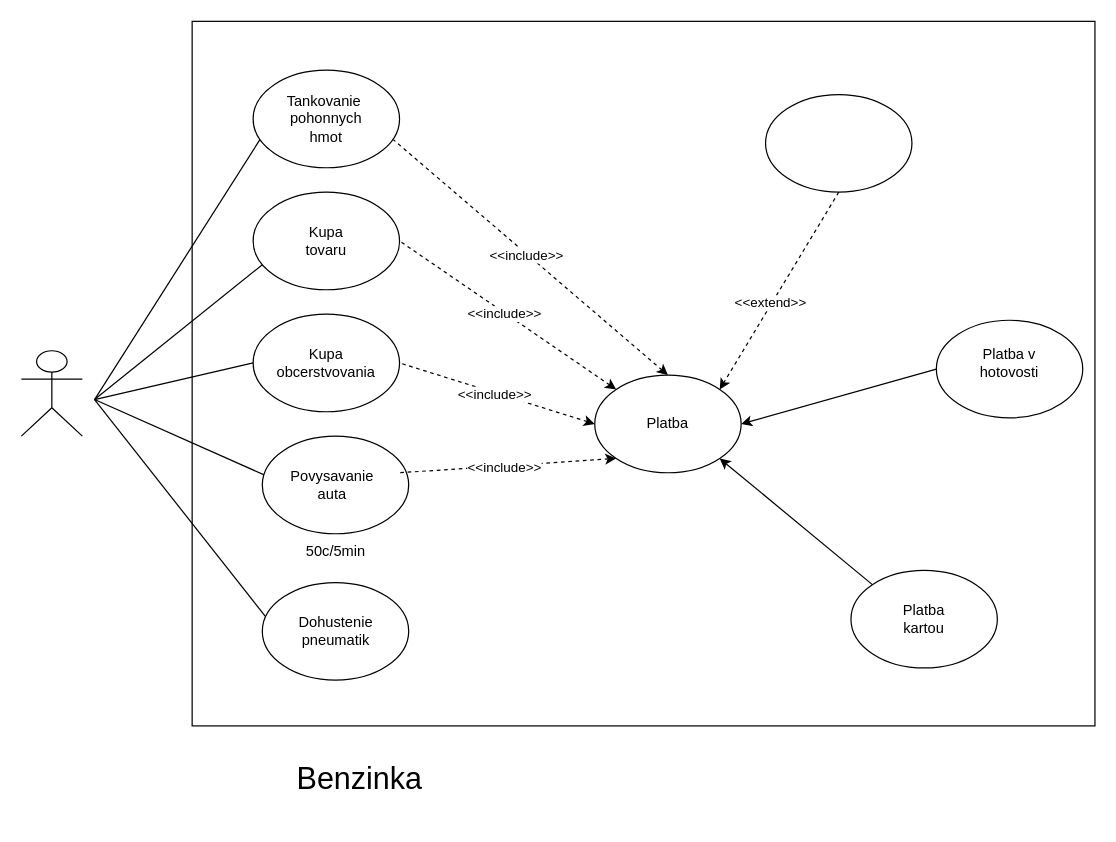
The diagram is 1116 pixels wide and 842 high, and some of its shapes have lost their labels. Each missing label, with the centre of its shape:
"Uplatenenie bonusovej zlavy" goes at (x=838, y=142).
"Zakaznik" goes at (x=51, y=393).
